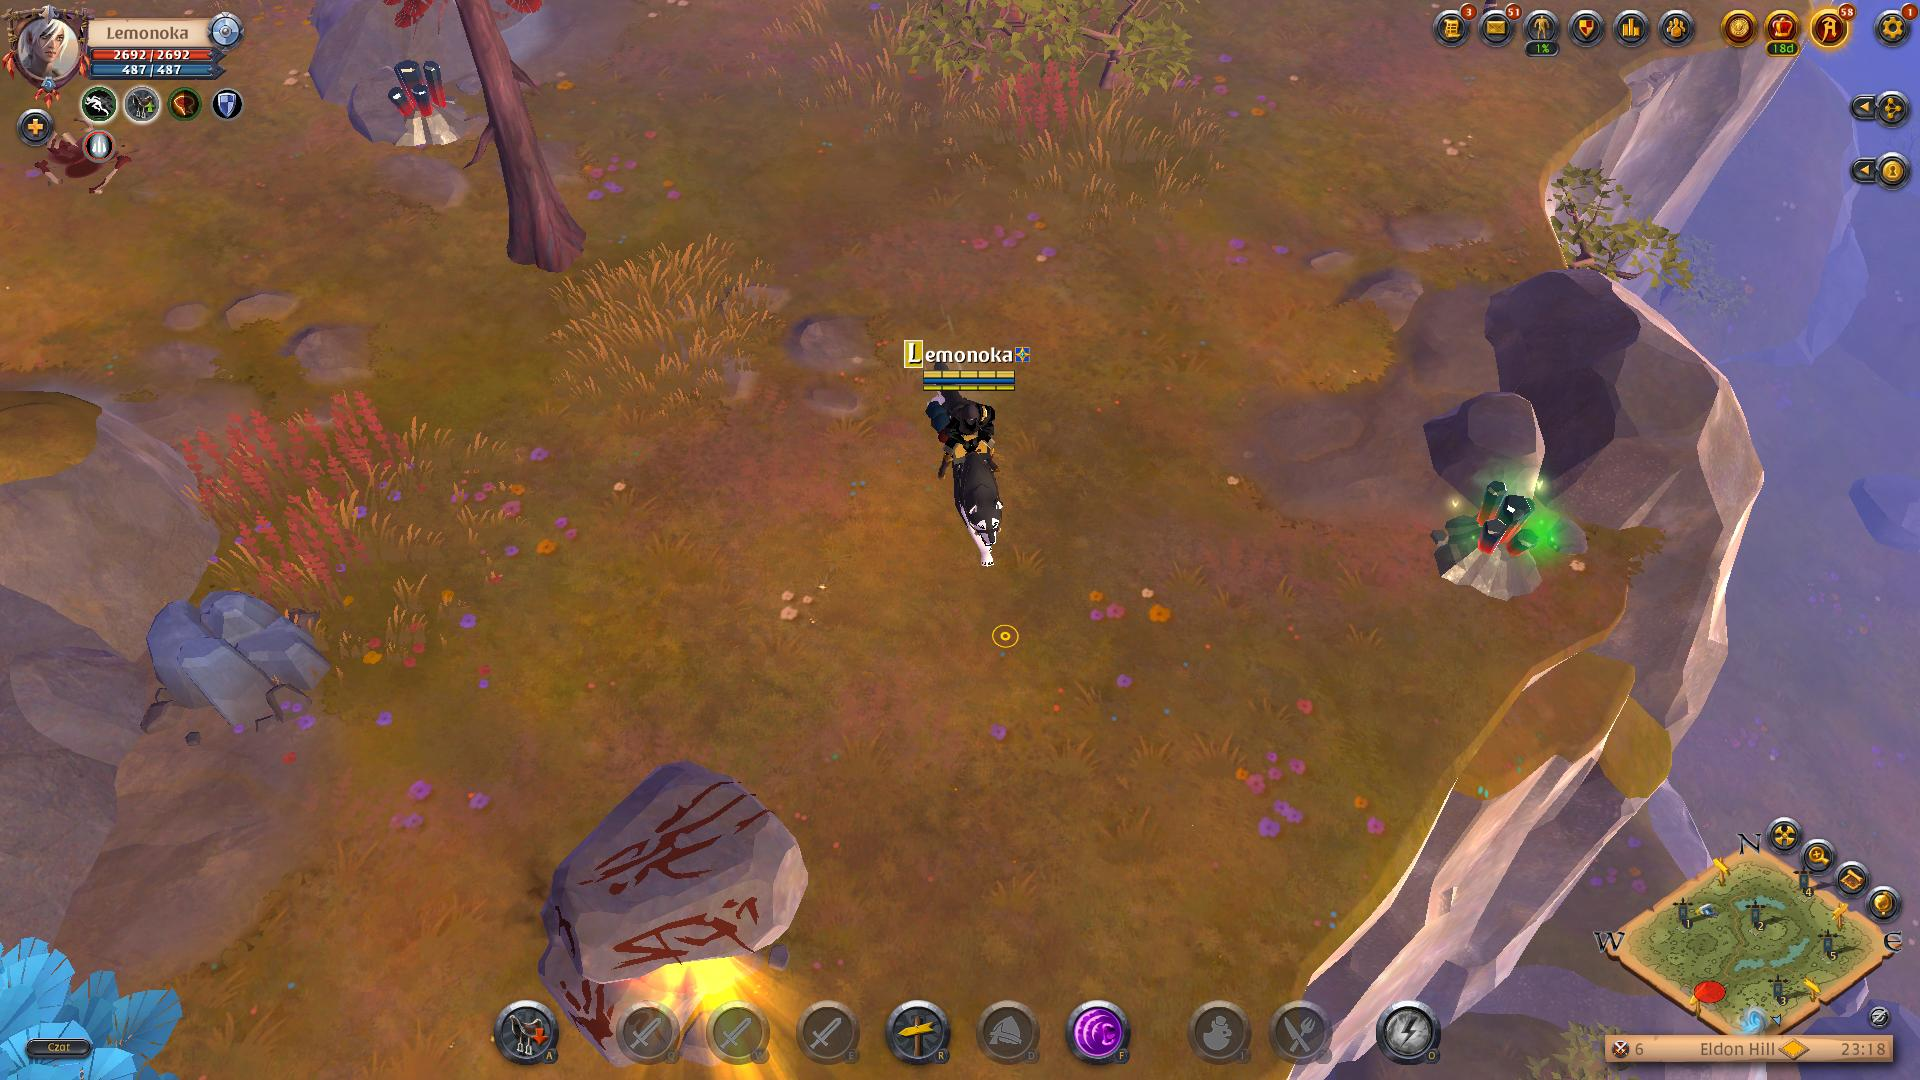ore tier 5: (1420, 475, 1559, 607), (372, 53, 468, 157)
rock tier 4: (138, 592, 339, 741)
